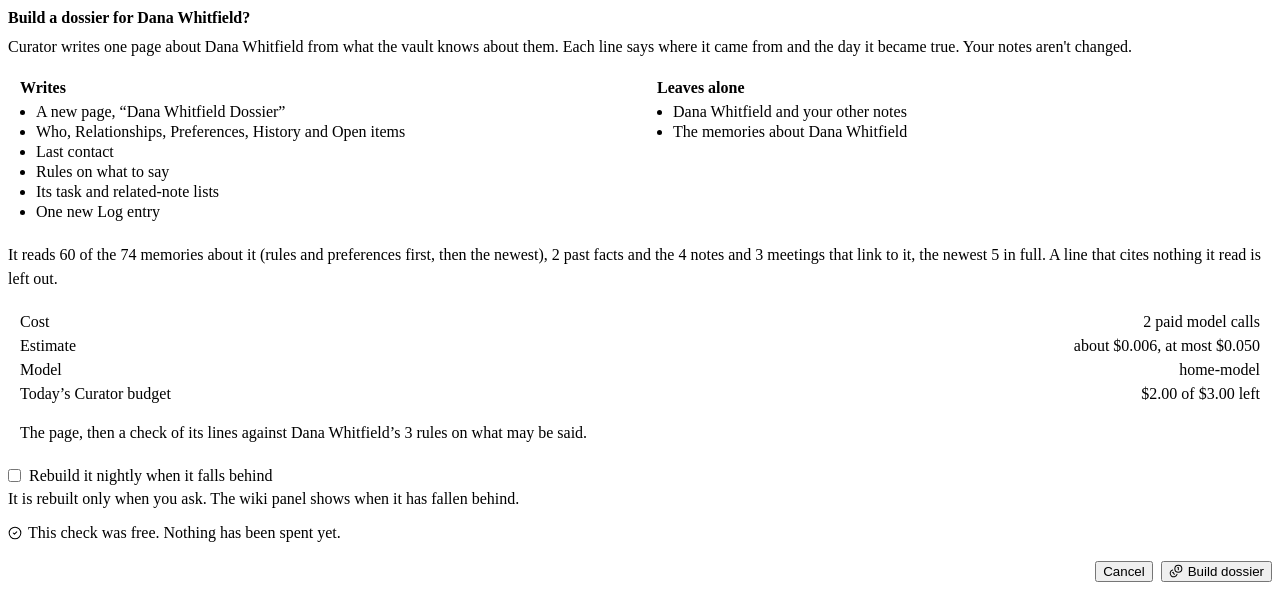
Scenario: shows a refusal in the Curator's words, and a failed build's reason
The image size is (1280, 599).
Later steps or results of the test are not shown.
Click the button "Build dossier". click: (1216, 571)
box: [1161,561,1272,582]
Wait 3000 ms
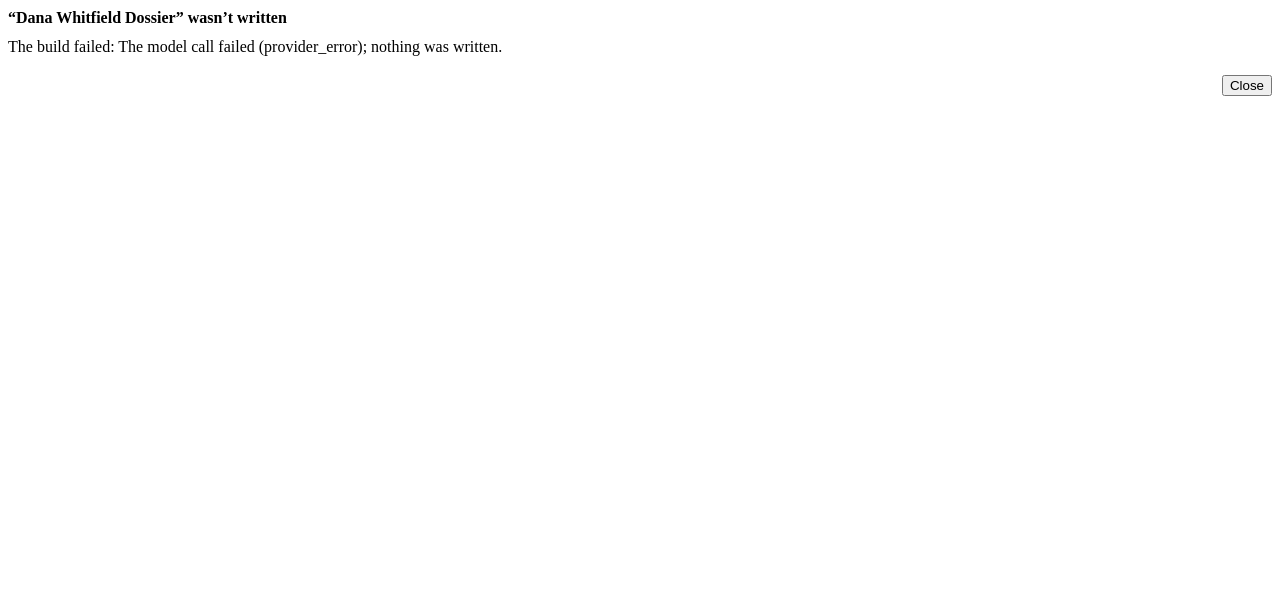
Now the text "The build failed: The model call failed (provider_error); nothing was written." is shown, box [8,38,502,55]
Now the heading "“Dana Whitfield Dossier” wasn’t written" is shown, box [8,9,287,26]
